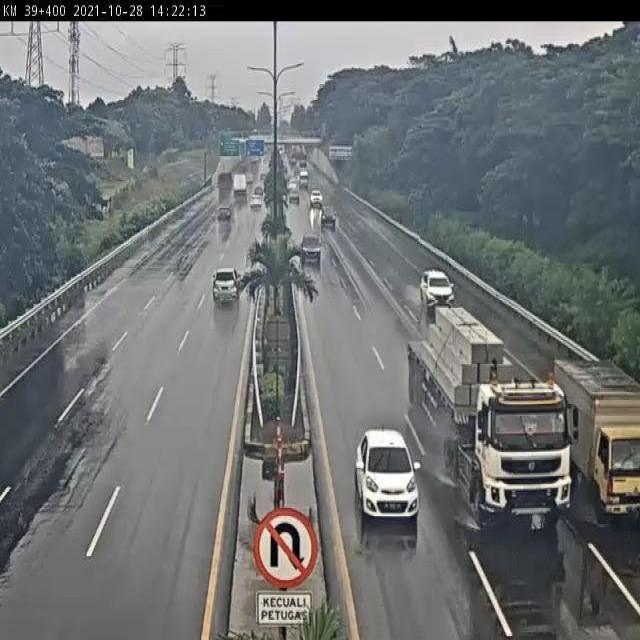car: (349, 426, 419, 526), (420, 266, 461, 310), (211, 264, 244, 308)
truck-s-: (552, 359, 640, 533)
truck-xl-: (411, 308, 580, 531)
